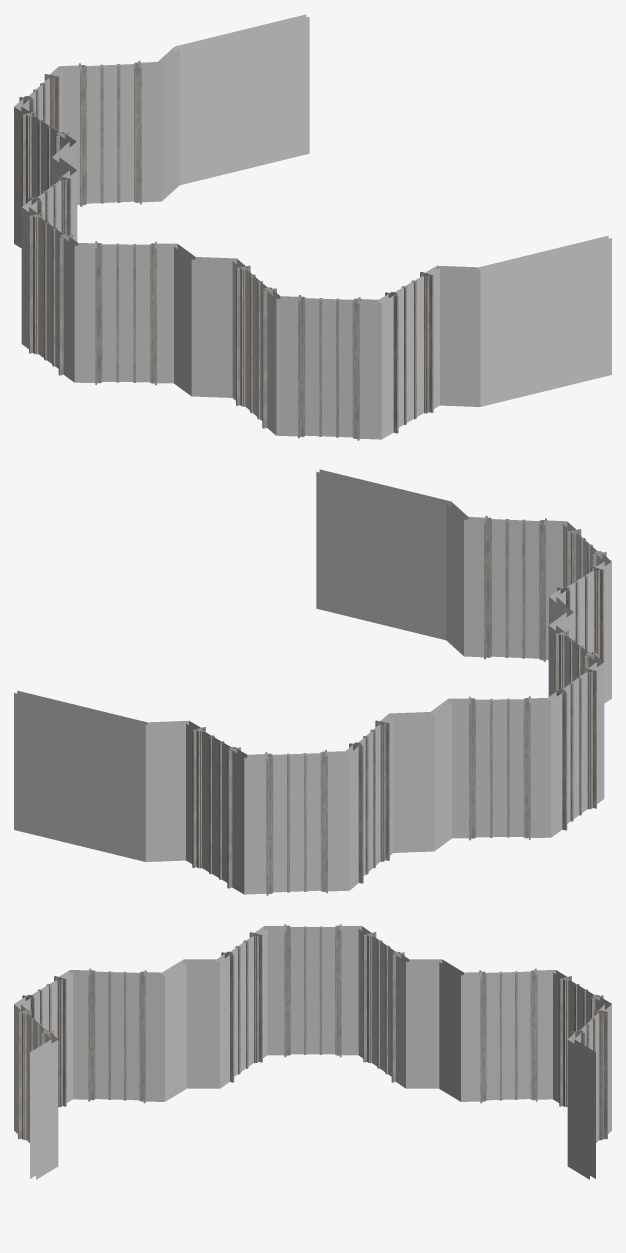
The model's file is Ambulatory_Outer_A_D.fbx.
The picture shows the model from 3 angles, top to bottom: view 1: azimuth 30°, elevation 25°; view 2: azimuth 150°, elevation 25°; view 3: azimuth 270°, elevation 25°; orthographic projection. The views are drawn at different scales.
Visible parts, largest first — view 1: Ambulatory_Outer_A_D; view 2: Ambulatory_Outer_A_D; view 3: Ambulatory_Outer_A_D.
Part boxes in pixels (x1,y1,x2,y2): Ambulatory_Outer_A_D: (14, 14, 611, 440); Ambulatory_Outer_A_D: (14, 469, 611, 895); Ambulatory_Outer_A_D: (14, 924, 611, 1179).
Size of the model in its own units: 19.02 by 25.64 by 6.
